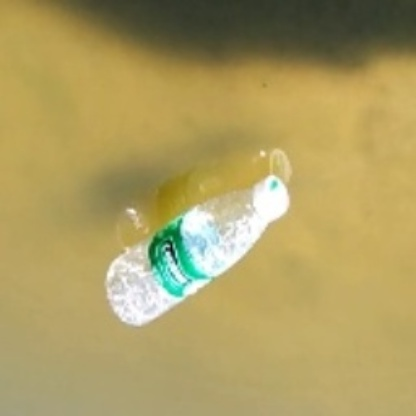bottle: (102, 171, 295, 330)
